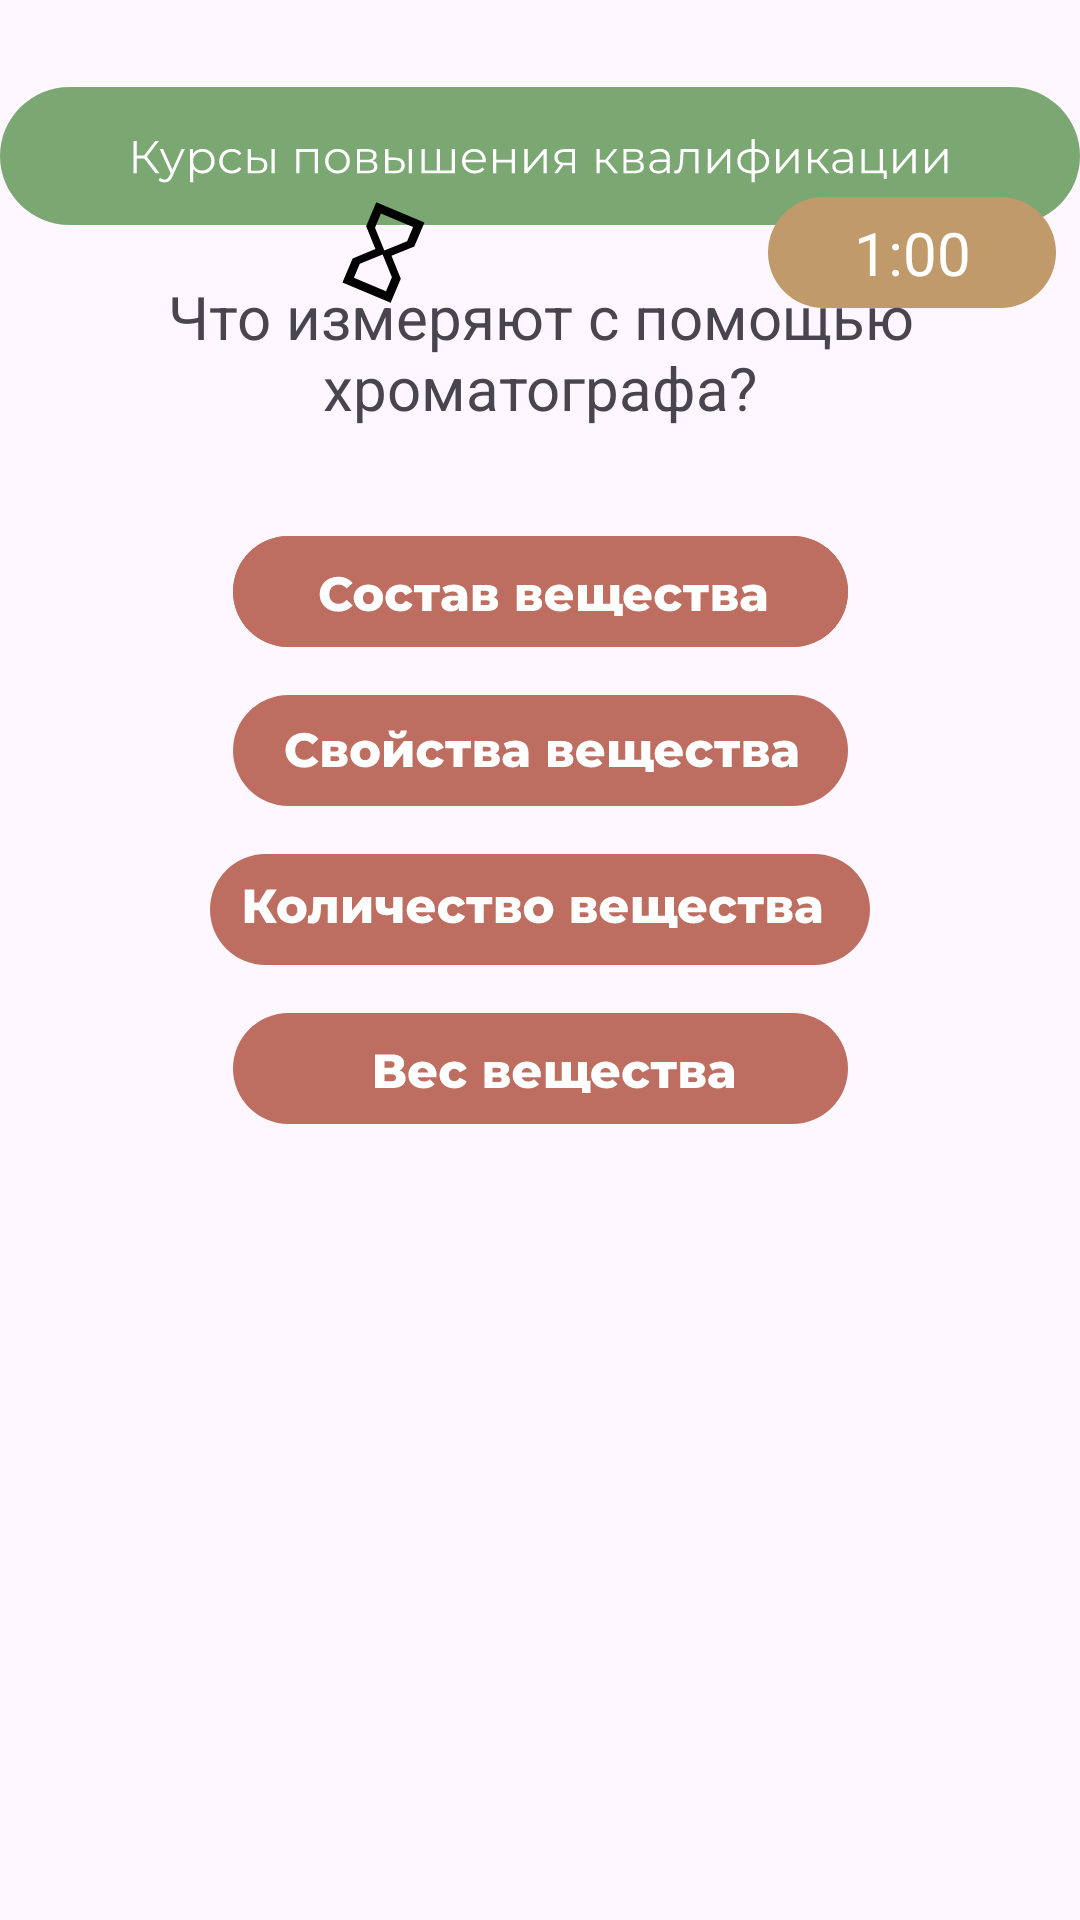

Icons on this 1080*1920 Android screen, each with the point to tap as point (x, y):
time: point (384, 253)
